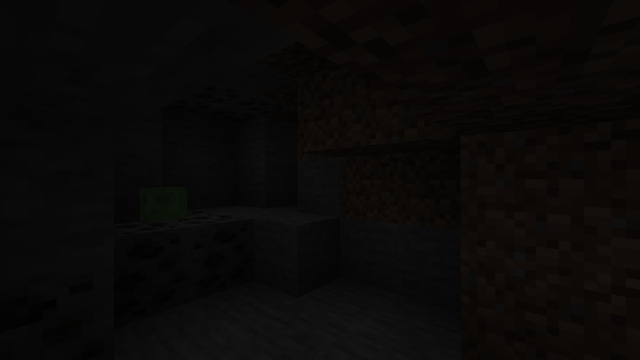slimes: (139, 185, 185, 222)
